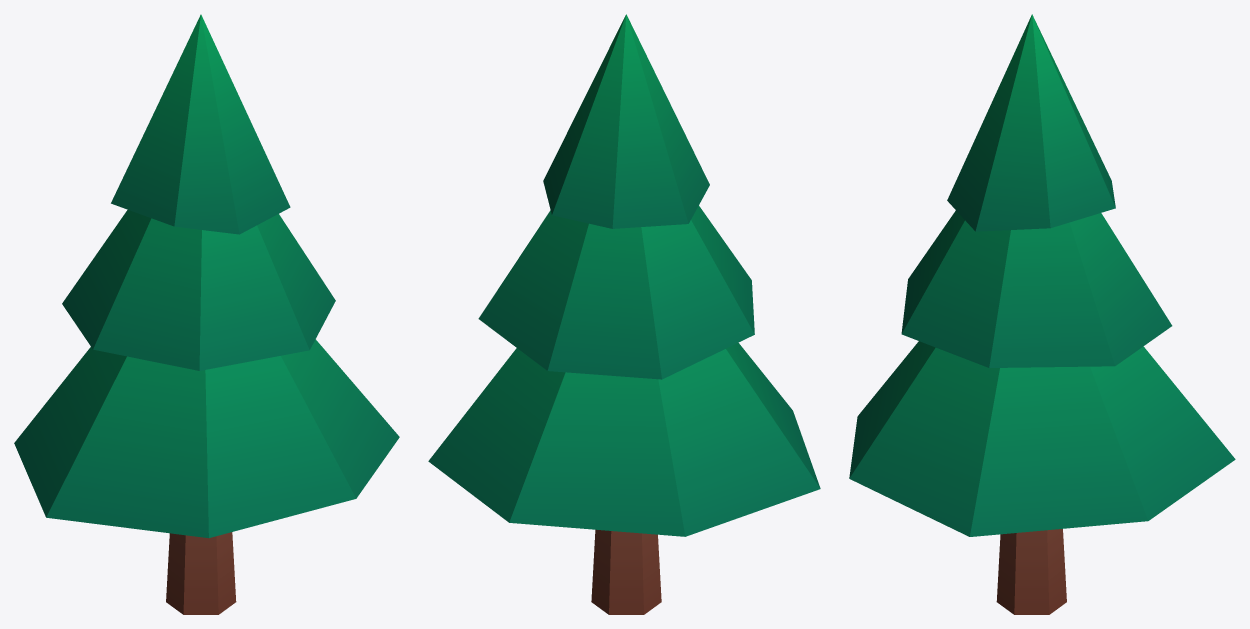
The model's file is pine_b.glb.
3 views of the same model, side by side, from view 1: azimuth 30°, elevation 25°; view 2: azimuth 150°, elevation 25°; view 3: azimuth 270°, elevation 25° (orthographic).
Visible parts, largest first — view 1: pine_b; view 2: pine_b; view 3: pine_b.
Boxes of the visible parts, box(x1,y1,x2,y2) form: pine_b: box(14, 14, 399, 614); pine_b: box(428, 14, 820, 614); pine_b: box(849, 14, 1235, 614).
Size of the model in its own units: 3.15 by 5.17 by 3.08.
Materials: 1 (1 with a texture image).
